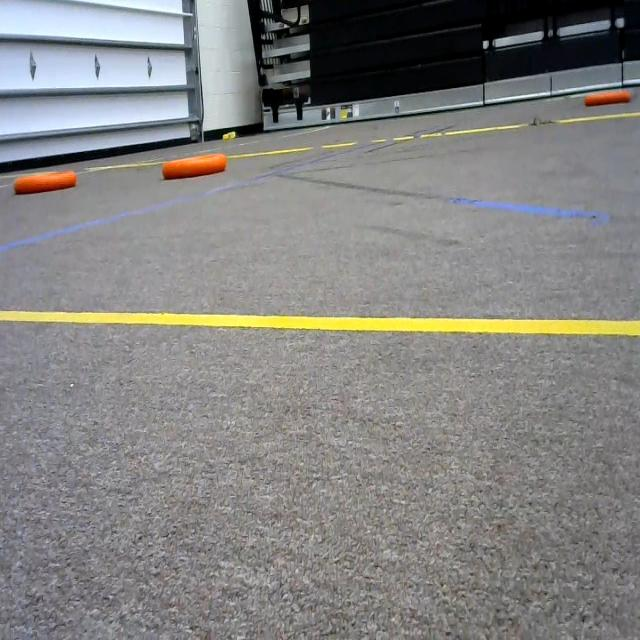note: (157, 143, 232, 192), (8, 159, 84, 203), (586, 85, 635, 109)
